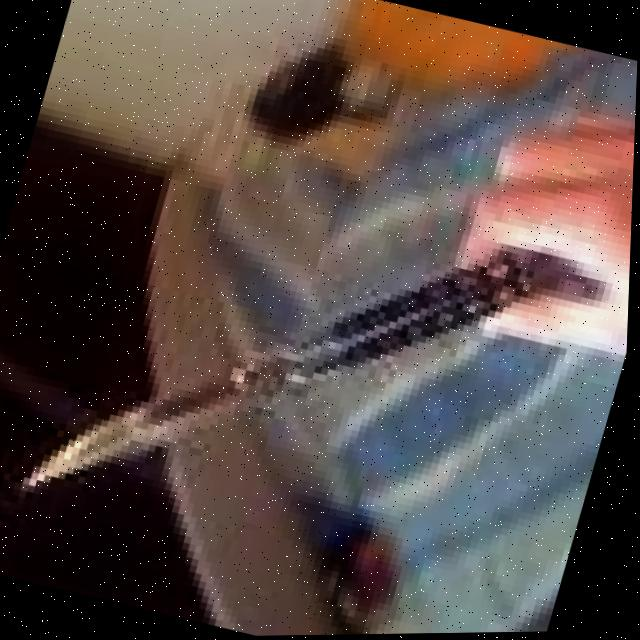knife: (9, 149, 546, 608)
